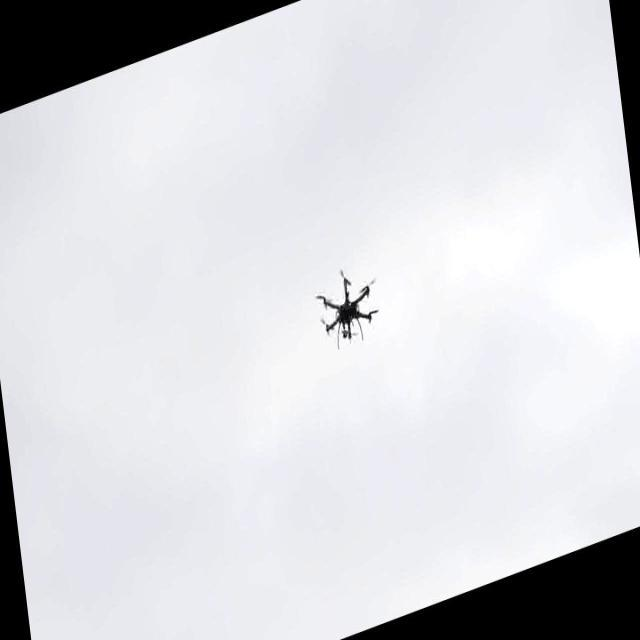drone: (312, 253, 383, 358)
